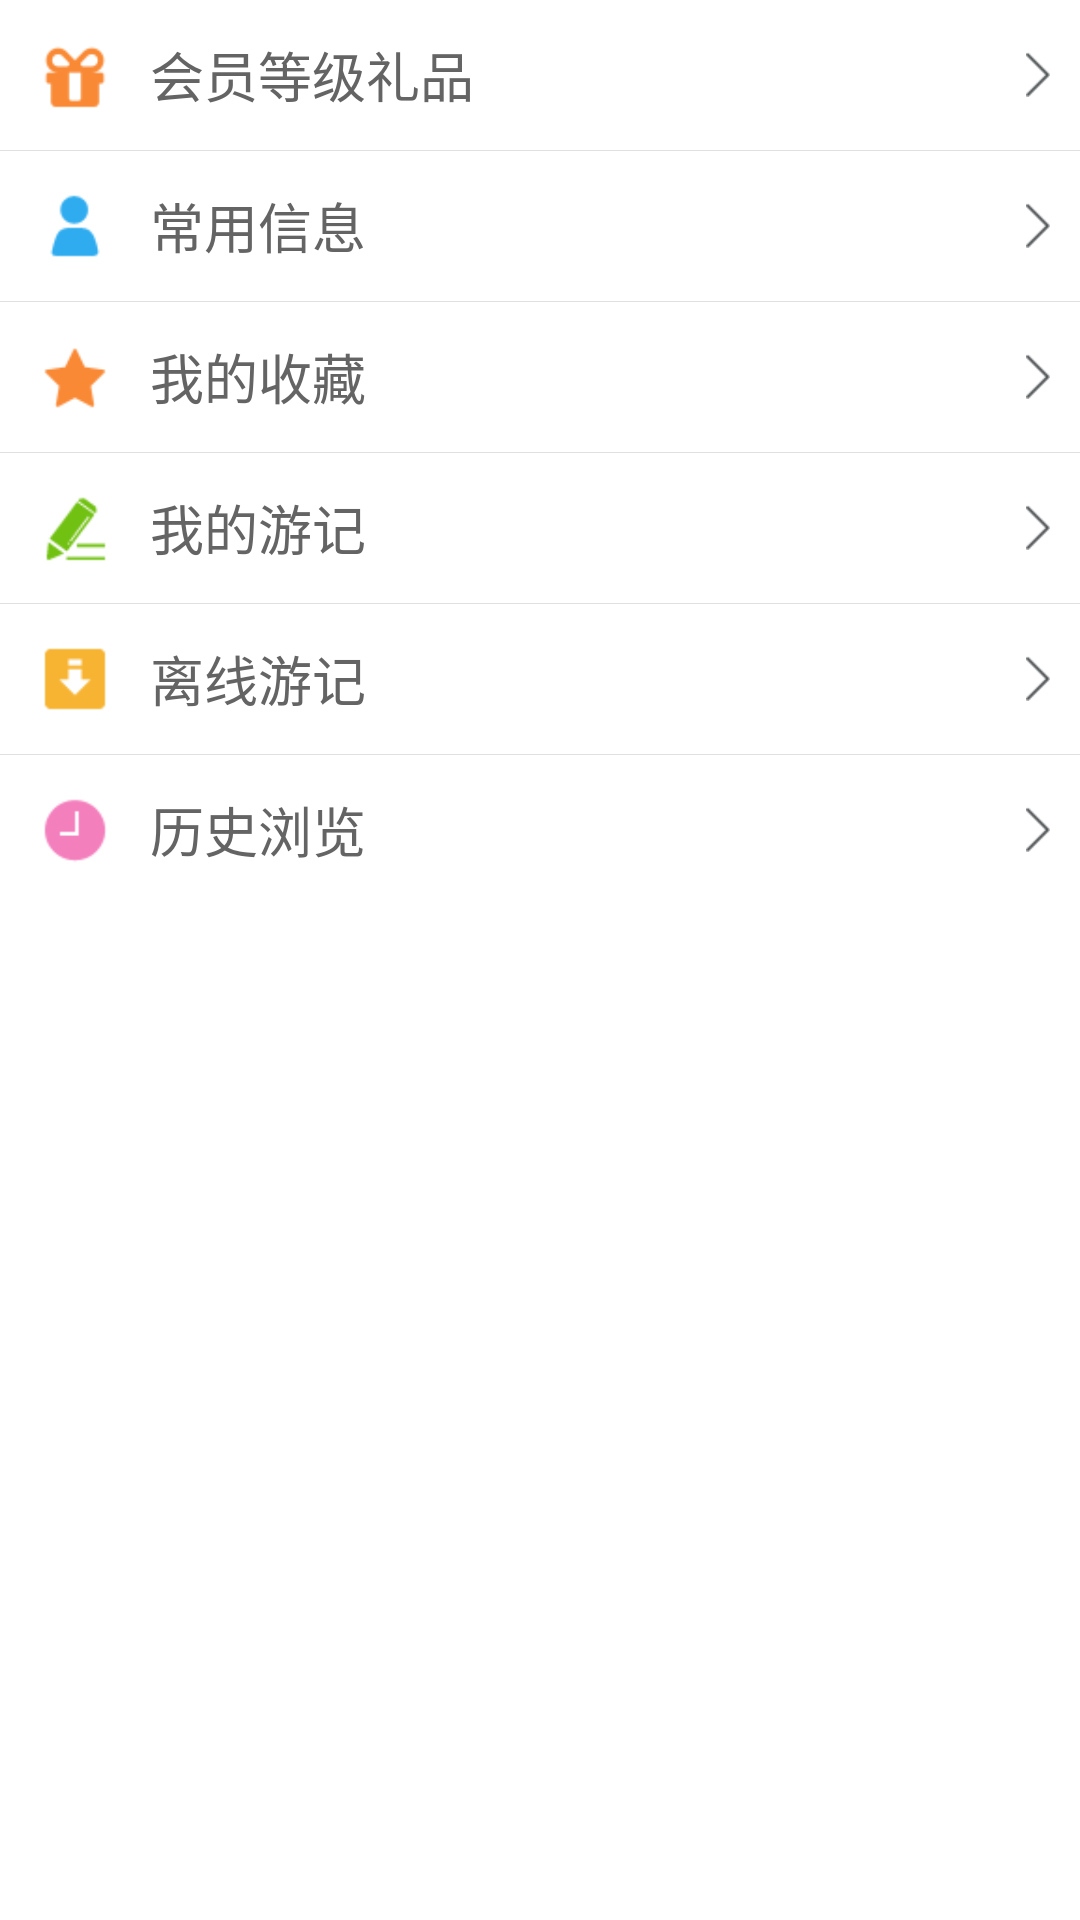

Icons on this 1080w x 1920h Android screen, each with the point to tap as (x=x, y=y):
member level: (x=75, y=77)
mine browse history: (x=75, y=830)
mine favorite: (x=75, y=378)
mine paypeople: (x=75, y=226)
offline travel: (x=75, y=679)
turn right: (x=1038, y=75), (x=1038, y=226), (x=1038, y=377), (x=1038, y=528), (x=1038, y=679), (x=1038, y=830)
